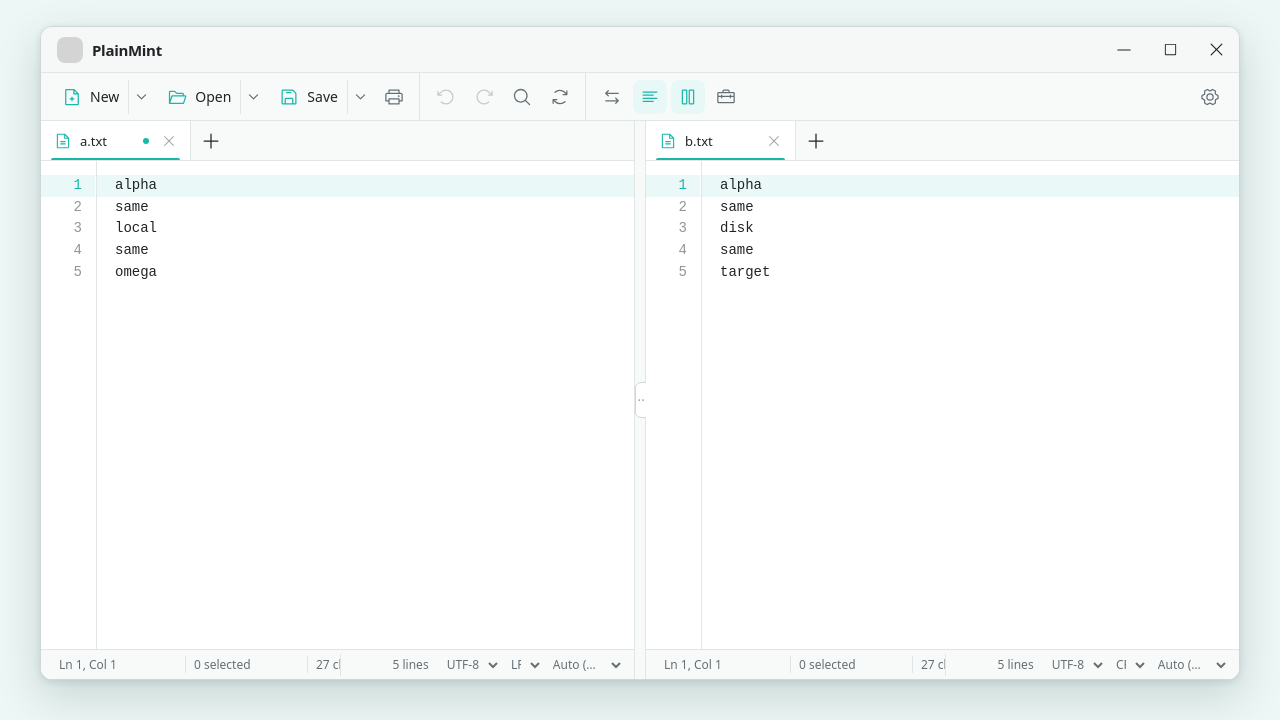
Test: tab and split interactions › compares the current left and right pane content with the toolbar and shortcut
Click the button named "Compare". click: (612,96)
box: [595, 80, 629, 114]
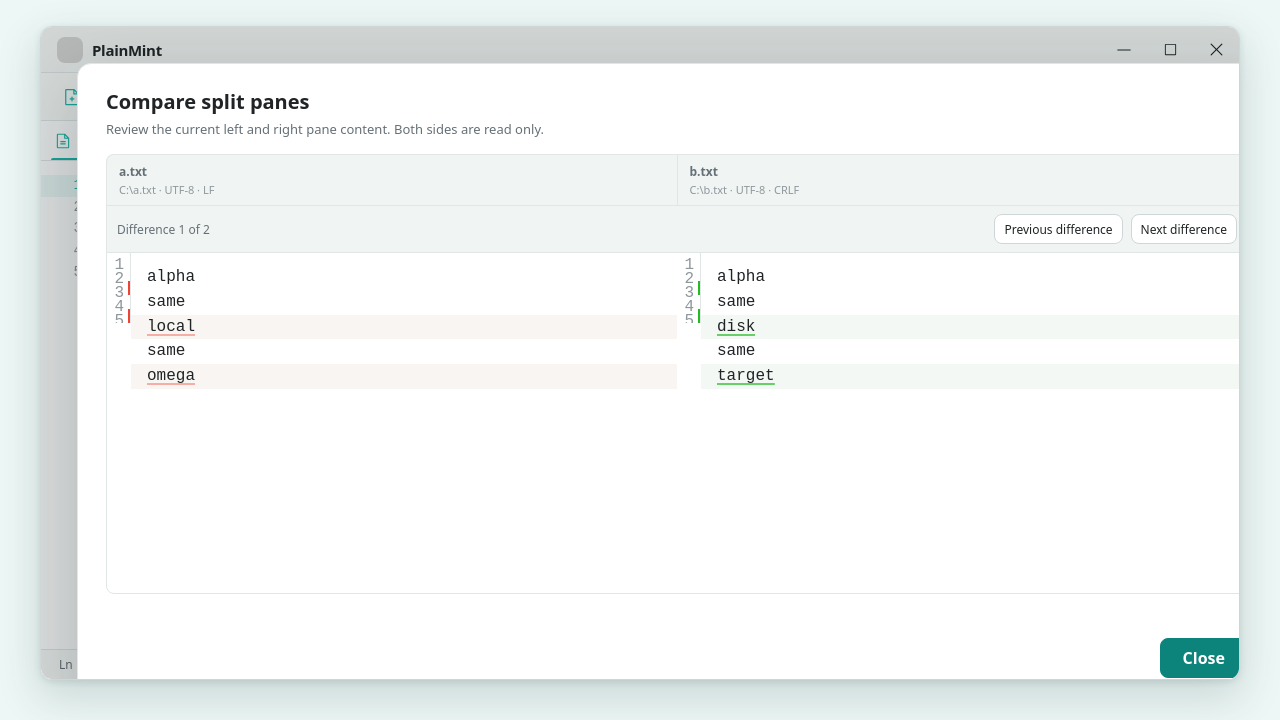
Check: the dialog "Compare split panes" is shown
Check: the text "C:\\a.txt" is shown, box [119, 182, 214, 197]
Check: the text "C:\\b.txt" is shown, box [690, 182, 799, 197]
Click the button "Next difference". click: (1184,229)
box: [1131, 214, 1237, 244]
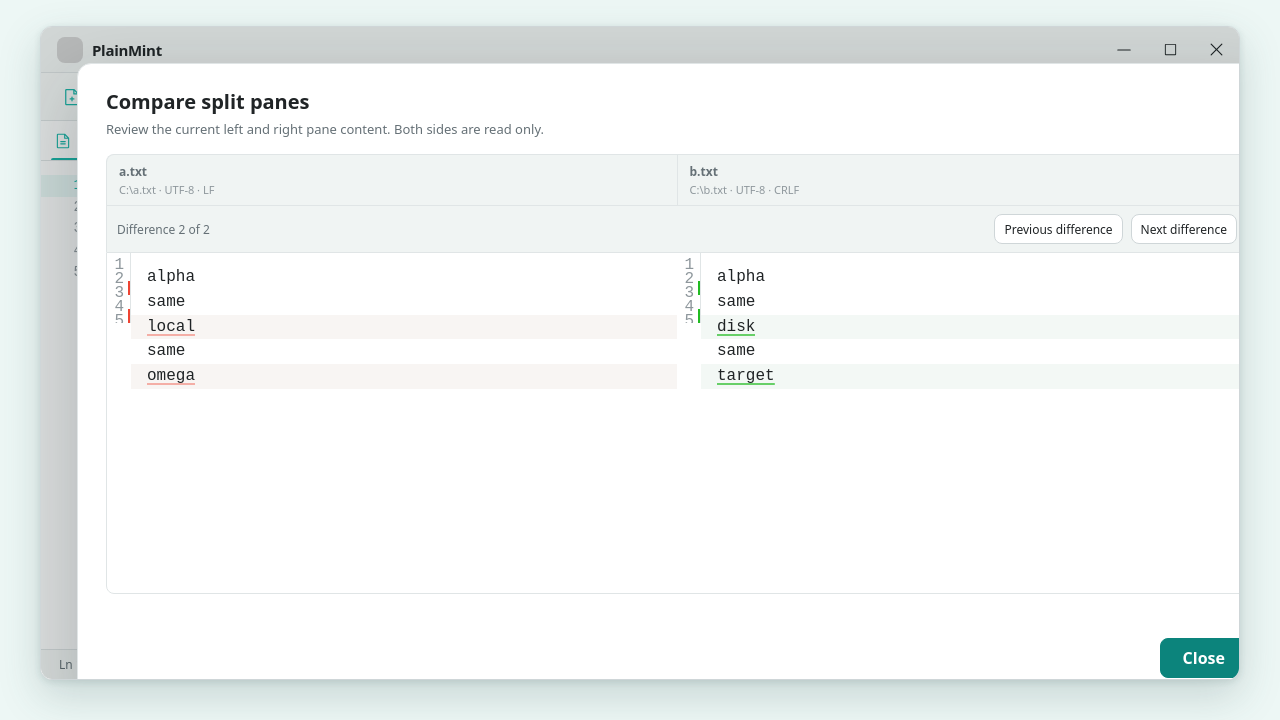
Check: the text "Difference 2 of 2" is shown, box [117, 220, 210, 238]
Click the button "Previous difference". click: (1058,229)
box: [994, 214, 1123, 244]
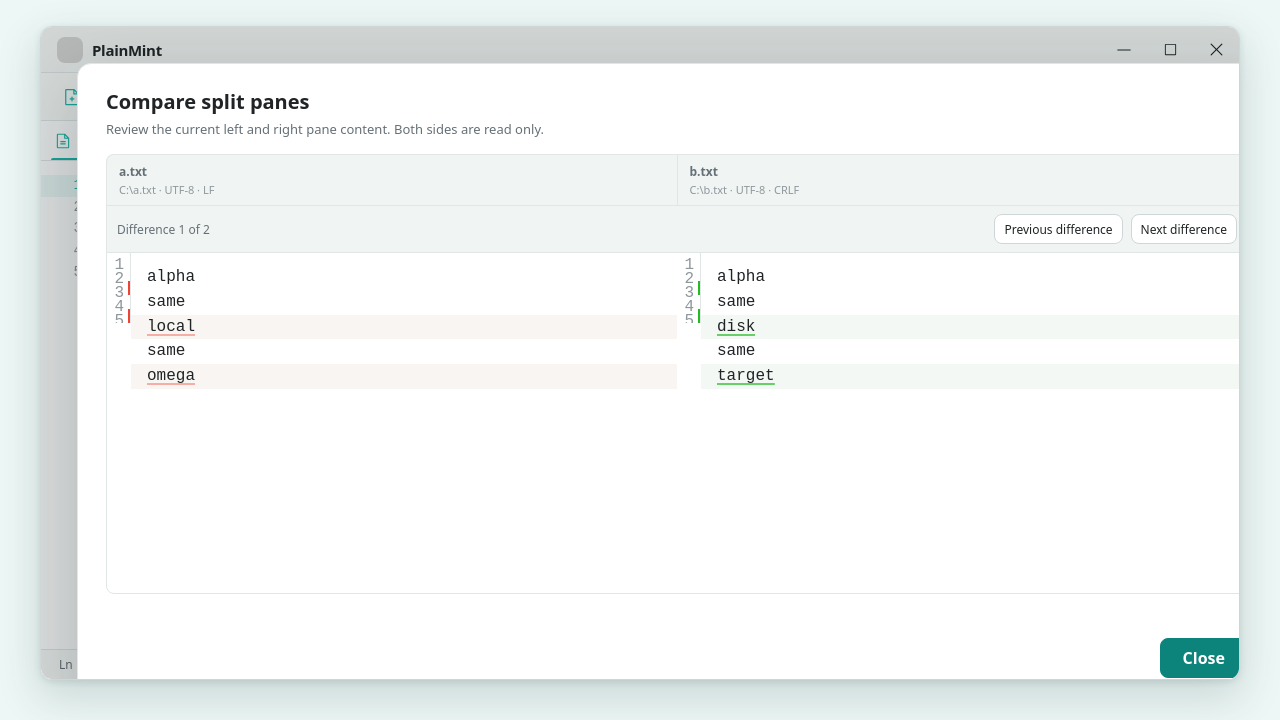
Check: the text "Difference 1 of 2" is shown, box [117, 220, 210, 238]
Press Escape
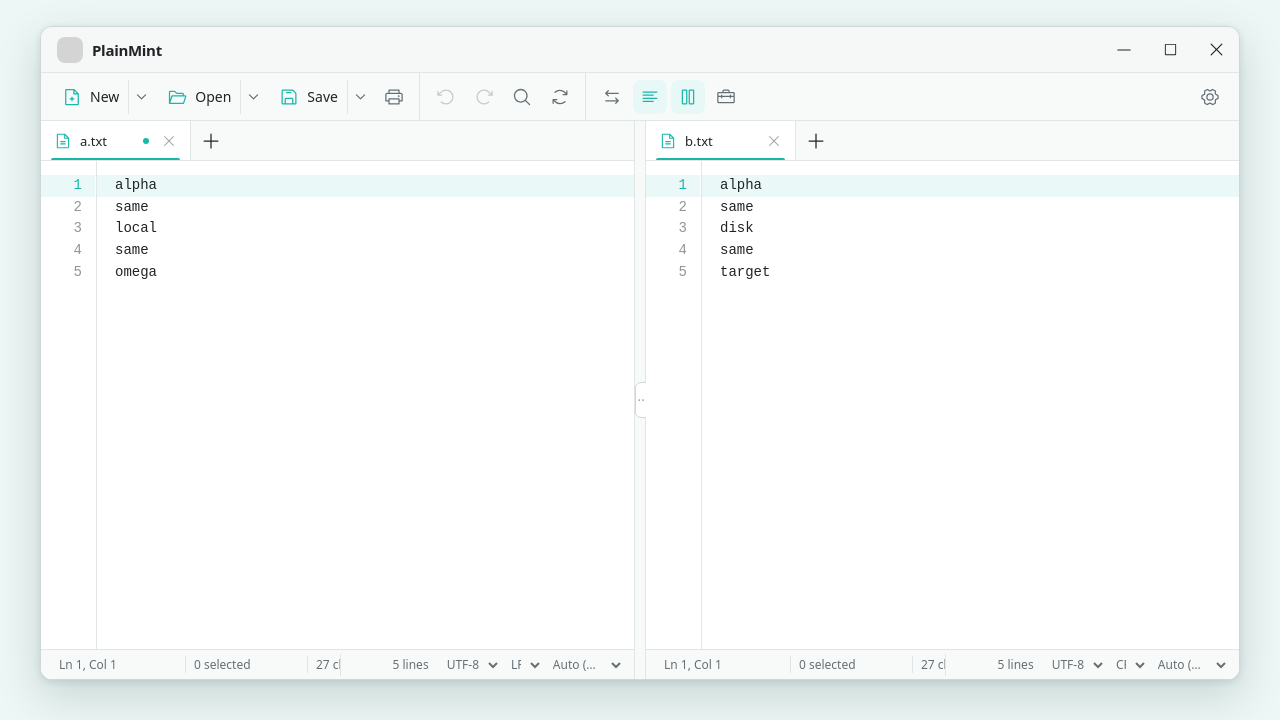
Check: the heading "Compare split panes" is gone
Press d
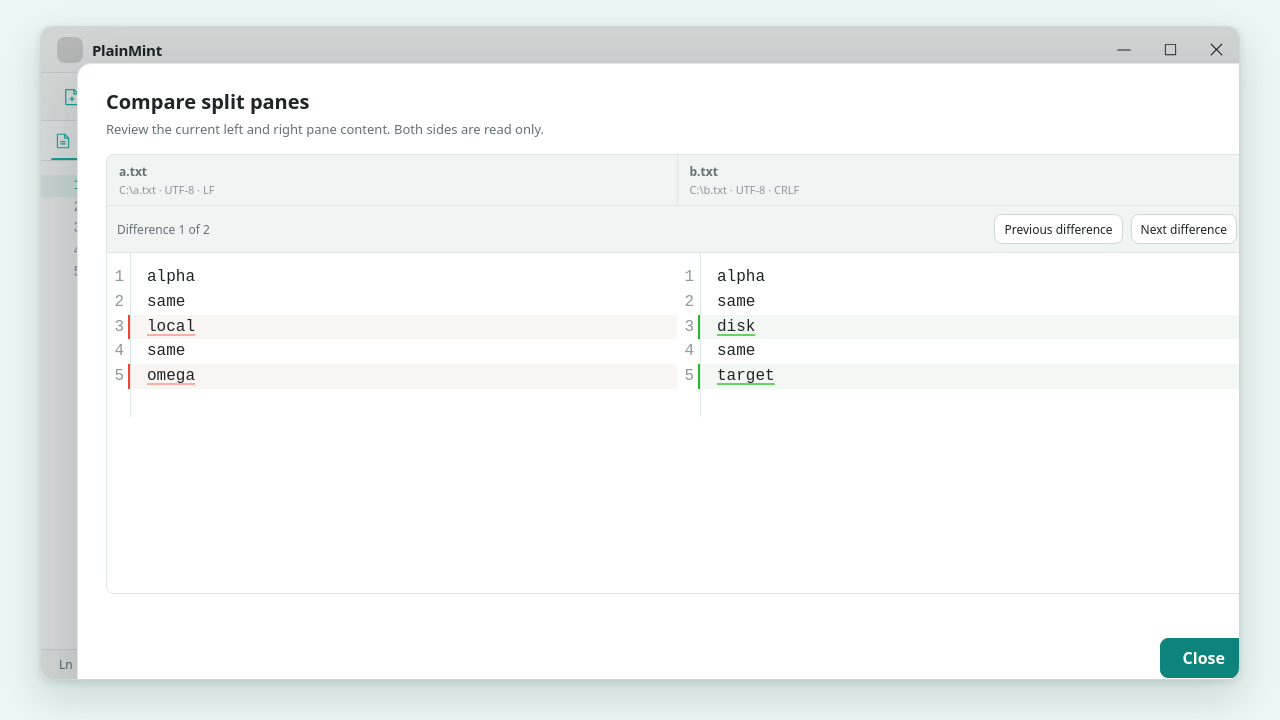
Check: the dialog "Compare split panes" is shown
